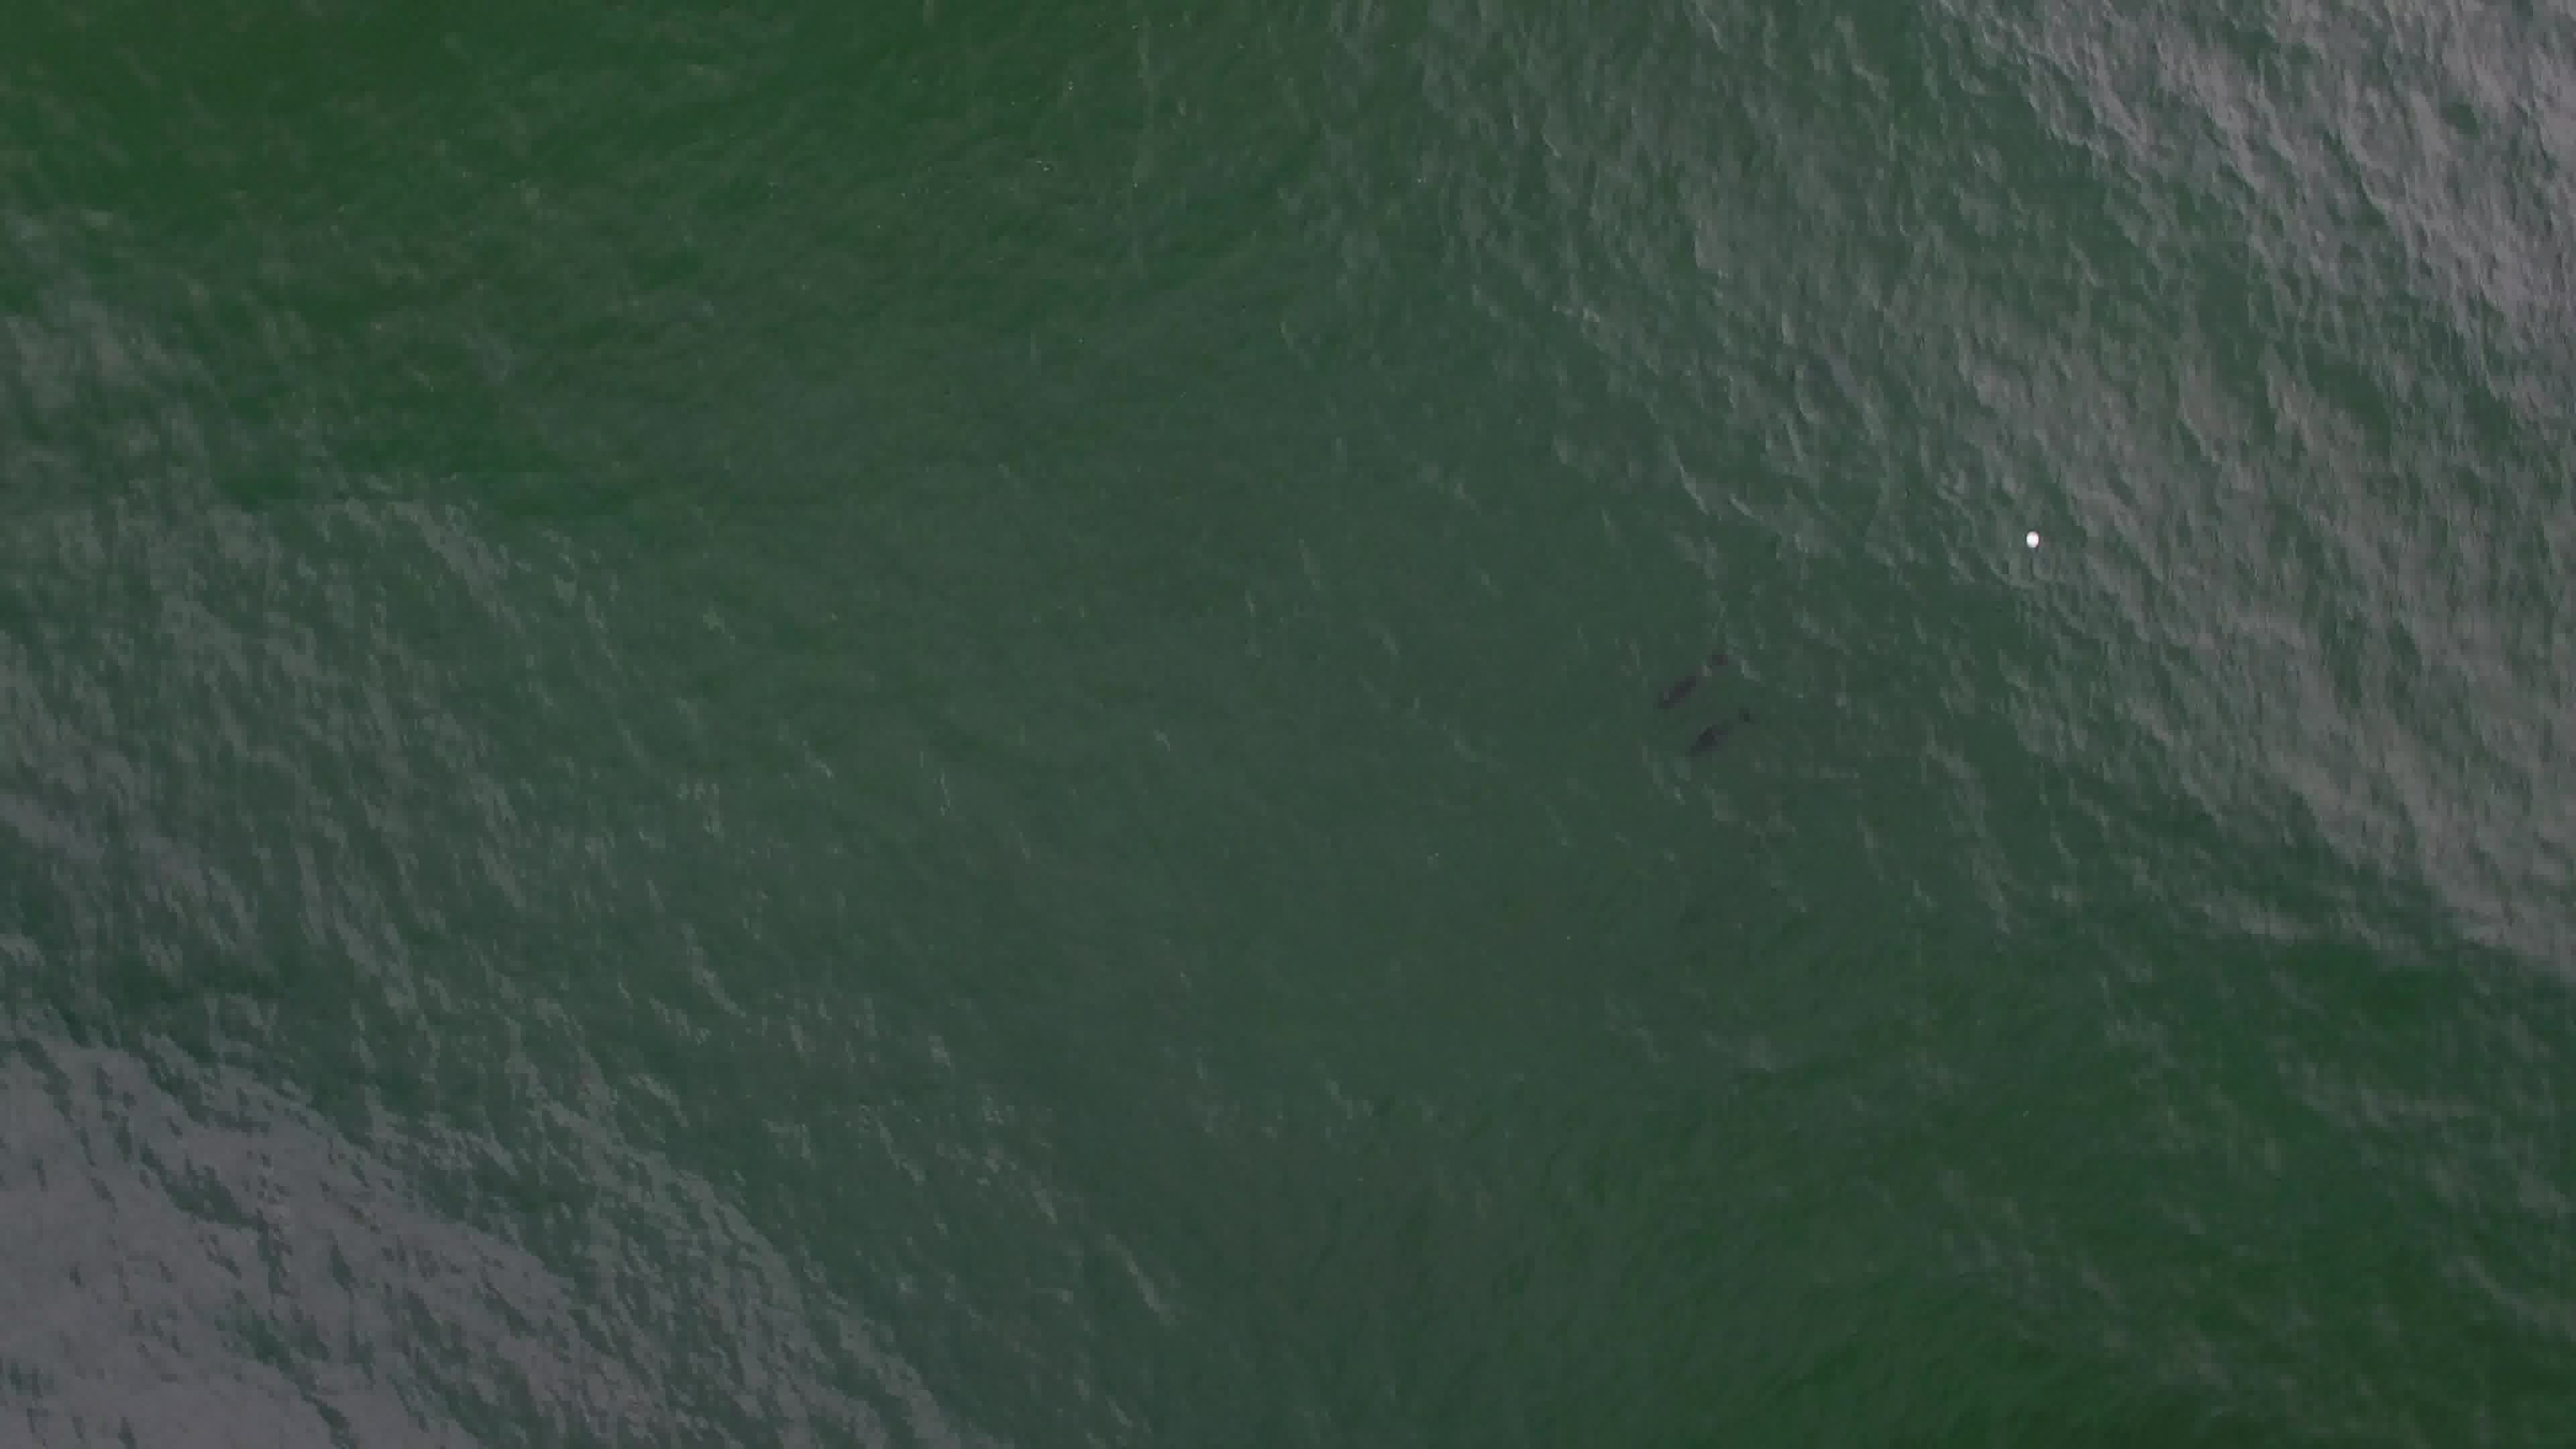dolphin: (1654, 669, 1773, 782), (1633, 610, 1732, 720)
